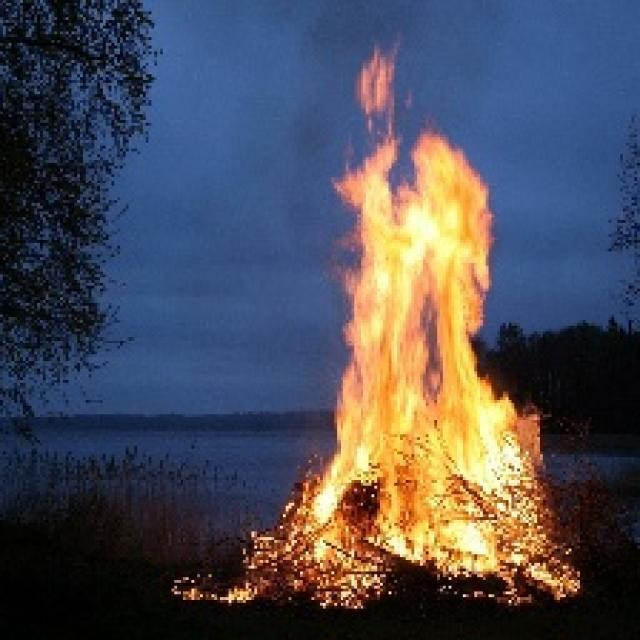Fire: (296, 56, 552, 594)
